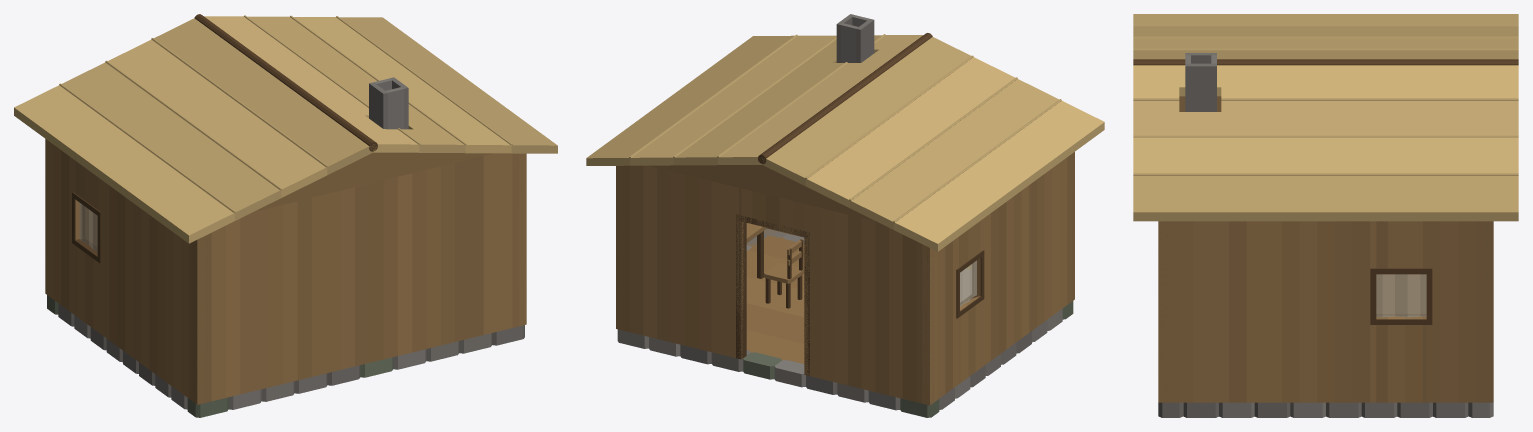
File: SM_CASA_01_CHOZA_ALTA.glb
3 views of the same model, side by side, from view 1: azimuth 30°, elevation 25°; view 2: azimuth 150°, elevation 25°; view 3: azimuth 270°, elevation 25° (orthographic). The views are drawn at different scales.
Visible parts, largest first — view 1: SM_Pared_Norte, SM_Techo_Izq, SM_Pared_Oeste, SM_Techo_Der, SM_Cimiento_Piedra, SM_Hogar, SM_Cumbrera, SM_Pared_Este, SM_Pared_Sur; view 2: SM_Pared_Sur, SM_Techo_Izq, SM_Pared_Oeste, SM_Techo_Der, SM_Cimiento_Piedra, SM_Suelo, SM_Hogar, SM_Cumbrera, SM_Silla, SM_Pared_Este, SM_Mesa, SM_Pared_Norte; view 3: SM_Pared_Este, SM_Techo_Der, SM_Techo_Izq, SM_Cimiento_Piedra, SM_Cumbrera, SM_Suelo, SM_Hogar, SM_Pared_Norte, SM_Pared_Sur.
Boxes of the visible parts, left/top/right/bottom form: SM_Pared_Norte: left=192, top=152, right=526, bottom=404; SM_Techo_Izq: left=14, top=18, right=373, bottom=243; SM_Pared_Oeste: left=45, top=139, right=205, bottom=403; SM_Techo_Der: left=204, top=15, right=557, bottom=153; SM_Cimiento_Piedra: left=47, top=295, right=524, bottom=417; SM_Hogar: left=369, top=77, right=408, bottom=129; SM_Cumbrera: left=194, top=14, right=377, bottom=151; SM_Pared_Este: left=519, top=153, right=526, bottom=326; SM_Pared_Sur: left=45, top=179, right=97, bottom=288; SM_Pared_Sur: left=616, top=165, right=934, bottom=405; SM_Techo_Izq: left=762, top=37, right=1104, bottom=251; SM_Pared_Oeste: left=922, top=152, right=1074, bottom=405; SM_Techo_Der: left=586, top=34, right=923, bottom=165; SM_Cimiento_Piedra: left=617, top=228, right=1073, bottom=417; SM_Suelo: left=746, top=229, right=804, bottom=363; SM_Hogar: left=836, top=14, right=874, bottom=62; SM_Cumbrera: left=758, top=33, right=932, bottom=164; SM_Silla: left=764, top=239, right=803, bottom=308; SM_Pared_Este: left=616, top=166, right=623, bottom=330; SM_Mesa: left=746, top=223, right=766, bottom=278; SM_Pared_Norte: left=767, top=152, right=1074, bottom=301; SM_Pared_Este: left=1158, top=221, right=1493, bottom=402; SM_Techo_Der: left=1133, top=65, right=1518, bottom=221; SM_Techo_Izq: left=1133, top=14, right=1518, bottom=59; SM_Cimiento_Piedra: left=1158, top=402, right=1493, bottom=417; SM_Cumbrera: left=1133, top=59, right=1518, bottom=65; SM_Suelo: left=1376, top=274, right=1426, bottom=313; SM_Hogar: left=1185, top=53, right=1216, bottom=111; SM_Pared_Norte: left=1158, top=221, right=1168, bottom=402; SM_Pared_Sur: left=1483, top=221, right=1493, bottom=402.
Size of the model in its own units: 5.6 by 3.88 by 4.6.
